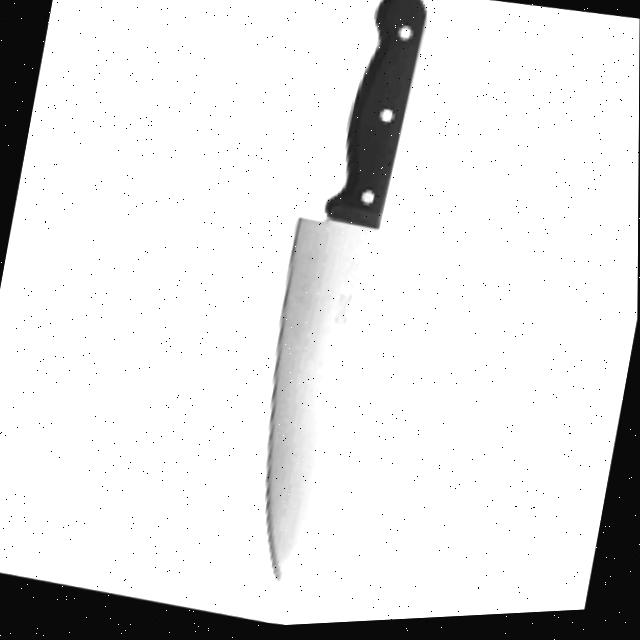knife: (227, 0, 432, 597)
